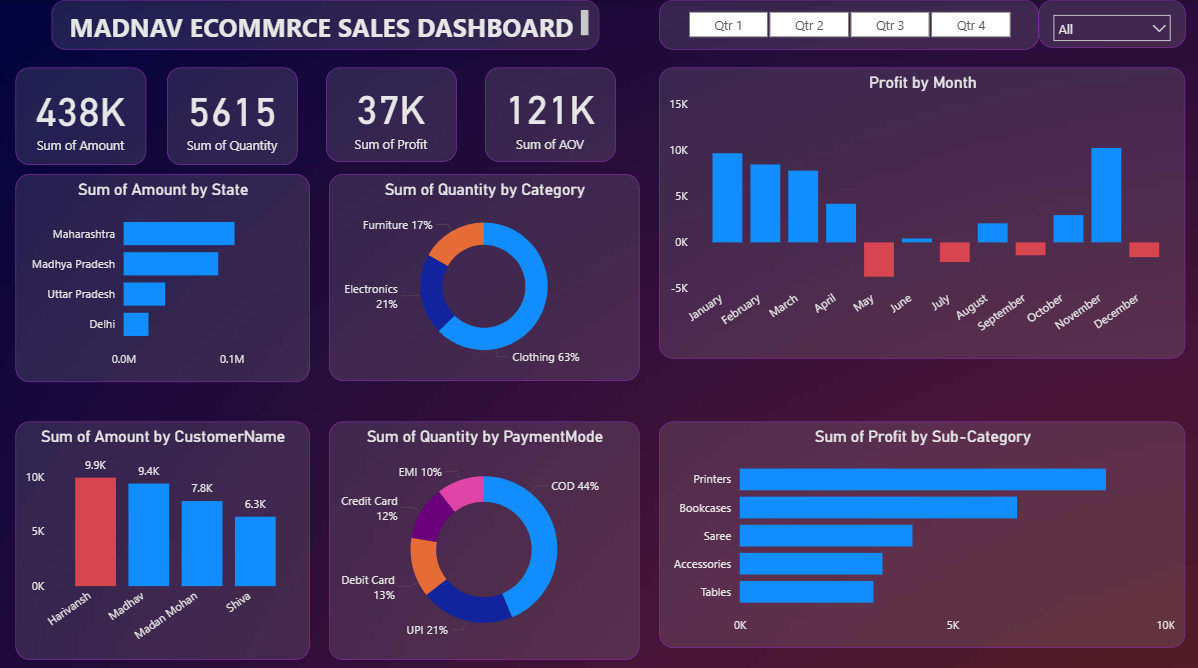

What the dashboard file says about the page in this screenshot:
{"tool":"powerbi","page":{"name":"Page 1","canvas":[1280,720],"ordinal":0},"visuals":[{"type":"textbox","box":[58.9,0,580.6,52.5],"z":0},{"type":"columnChart","title":" Profit by Month","fields":{"Category":["Orders.Order Date.Variation.Date Hierarchy.Month"],"Y":["Sum(Details.Profit)"]},"box":[703.1,71.6,558.3,308.6],"z":1000},{"type":"barChart","fields":{"Category":["Details.Sub-Category"],"Y":["Sum(Details.Profit)"]},"box":[703.1,447,558.3,240.2],"z":2000},{"type":"donutChart","fields":{"Category":["Details.Category"],"Y":["Sum(Details.Quantity)"]},"box":[353.1,184.5,329.3,219.5],"z":3000},{"type":"donutChart","fields":{"Y":["Sum(Details.Quantity)"],"Category":["Details.PaymentMode"]},"box":[353.1,447,329.3,252.9],"z":4000},{"type":"card","fields":{"Values":["Sum(Details.Amount)"]},"box":[20.7,71.6,138.4,103.4],"z":4001},{"type":"card","fields":{"Values":["Sum(Details.Quantity)"]},"box":[181.3,71.6,138.4,103.4],"z":4002},{"type":"card","fields":{"Values":["Sum(Details.Profit)"]},"box":[349.9,71.6,138.4,100.2],"z":4003},{"type":"card","fields":{"Values":["Sum(Details.AOV)"]},"box":[518.5,71.6,138.4,100.2],"z":4004},{"type":"barChart","fields":{"Category":["Orders.State"],"Y":["Sum(Details.Amount)"]},"box":[21.3,184.2,312.1,221],"z":4005},{"type":"columnChart","fields":{"Category":["Orders.CustomerName"],"Y":["Sum(Details.Amount)"]},"box":[20.7,447,311.8,252.9],"z":4006},{"type":"slicer","fields":{"Values":["Orders.Order Date.Variation.Date Hierarchy.Quarter"]},"box":[703.1,0,402.4,52.5],"z":4007},{"type":"slicer","fields":{"Values":["Orders.State"]},"box":[1105.5,0,155.9,50.9],"z":4008}]}

Visuals, with their boxes in screenshot pixels (x1, y1, x2, y2), scaled from the page's 1280x720 canvas onto the 1198x668 screenshot:
textbox: region(55, 0, 599, 49)
" Profit by Month" columnChart: region(658, 66, 1181, 353)
barChart - Details.Sub-Category x Sum(Details.Profit): region(658, 415, 1181, 638)
donutChart - Details.Category x Sum(Details.Quantity): region(330, 171, 639, 375)
donutChart - Sum(Details.Quantity) x Details.PaymentMode: region(330, 415, 639, 649)
card - Sum(Details.Amount): region(19, 66, 149, 162)
card - Sum(Details.Quantity): region(170, 66, 299, 162)
card - Sum(Details.Profit): region(327, 66, 457, 159)
card - Sum(Details.AOV): region(485, 66, 615, 159)
barChart - Orders.State x Sum(Details.Amount): region(20, 171, 312, 376)
columnChart - Orders.CustomerName x Sum(Details.Amount): region(19, 415, 311, 649)
slicer - Orders.Order Date.Variation.Date Hierarchy.Quarter: region(658, 0, 1035, 49)
slicer - Orders.State: region(1035, 0, 1181, 47)
